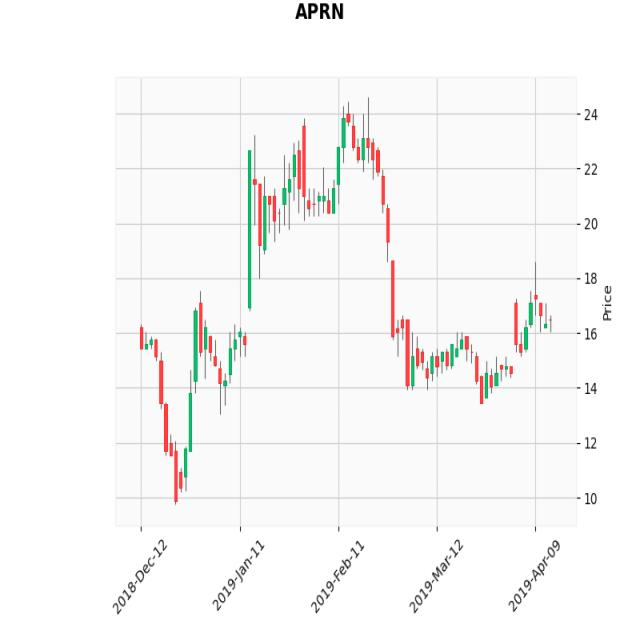Double-Top: (236, 96, 400, 298)
